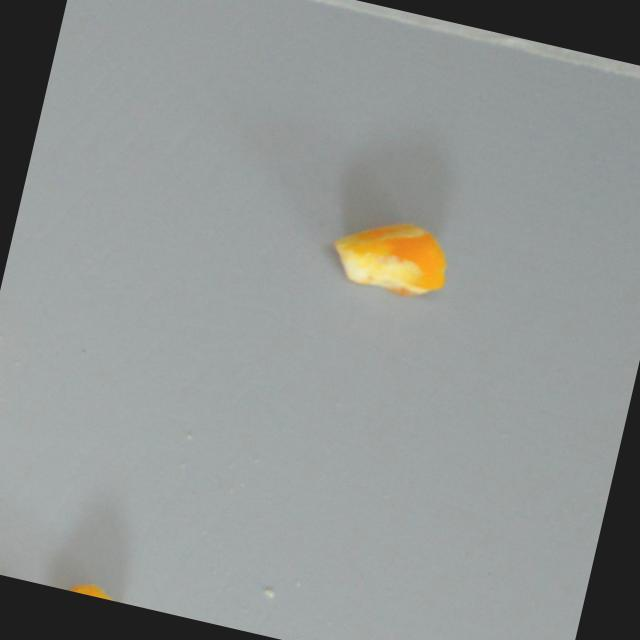pelicula: (325, 210, 454, 310)
